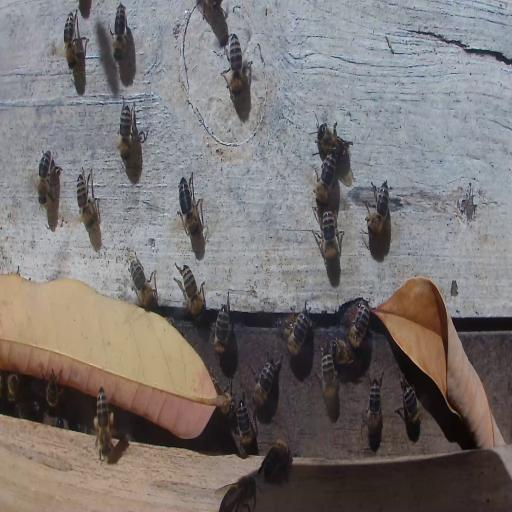bee: (174, 264, 206, 320), (176, 176, 204, 238), (316, 206, 343, 269), (128, 258, 160, 310), (250, 354, 278, 409), (362, 371, 384, 441), (316, 121, 349, 167), (285, 305, 313, 359), (94, 384, 115, 456), (75, 172, 100, 230), (260, 439, 292, 484), (220, 474, 257, 512), (365, 179, 391, 233), (314, 148, 338, 204), (398, 376, 422, 431), (320, 347, 340, 412), (235, 395, 255, 458), (330, 338, 365, 374), (226, 32, 244, 96), (212, 300, 230, 360), (348, 302, 370, 350), (112, 2, 127, 62), (37, 150, 51, 206), (64, 12, 77, 72), (119, 102, 132, 158), (46, 372, 60, 411), (6, 371, 20, 406), (30, 398, 41, 417)
